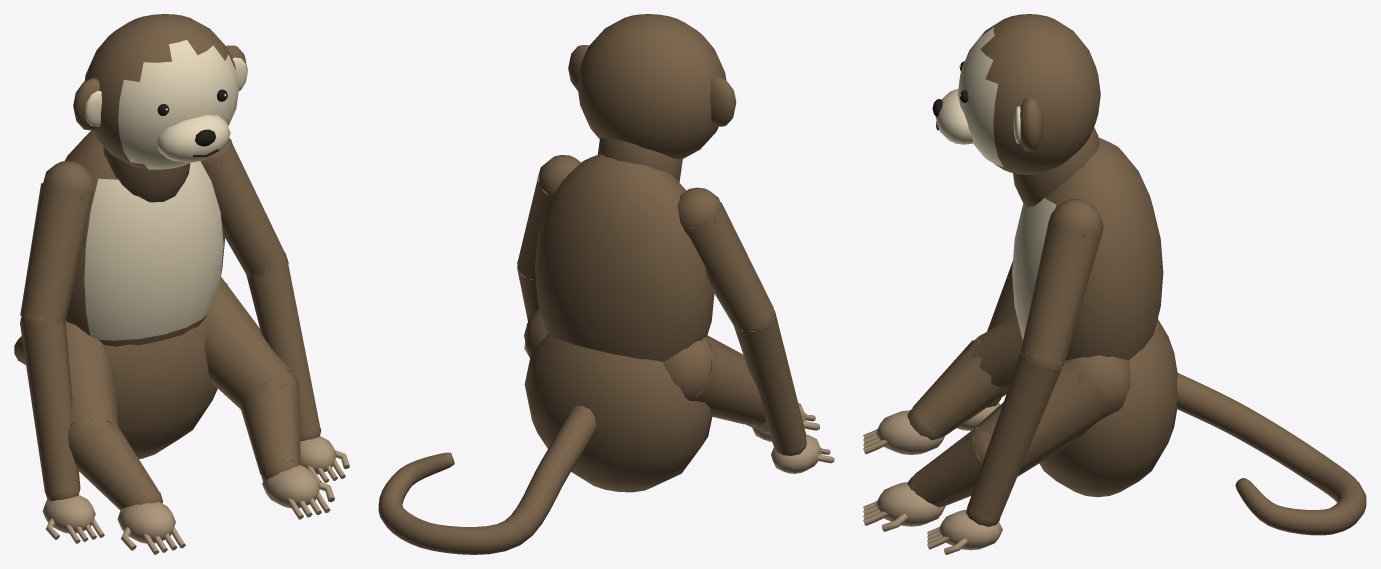
Rendered from monkey_capuchin.glb.
The picture shows the model from 3 angles, left to right: view 1: azimuth 30°, elevation 25°; view 2: azimuth 150°, elevation 25°; view 3: azimuth 270°, elevation 25°; orthographic projection. The views are drawn at different scales.
Parts seen in each view (by area): view 1: Capuchin_Upright_Torso, Capuchin_Head_With_Surface_Face, Capuchin_Seated_Hips, Capuchin_Long_Arm_-1_Segment_1, Capuchin_Long_Arm_-1_Segment_0, Capuchin_Bent_Leg_1_Segment_0, Capuchin_Long_Arm_1_Segment_0, Capuchin_Long_Arm_1_Segment_1, Capuchin_Bent_Leg_-1_Segment_1, Capuchin_Bent_Leg_1_Segment_1, Capuchin_Bent_Leg_-1_Segment_0, Capuchin_Rounded_Muzzle (+10 smaller); view 2: Capuchin_Upright_Torso, Capuchin_Seated_Hips, Capuchin_Head_With_Surface_Face, Capuchin_Curved_Connected_Tail, Capuchin_Long_Arm_-1_Segment_0, Capuchin_Long_Arm_-1_Segment_1, Capuchin_Bent_Leg_-1_Segment_0, Capuchin_Bent_Leg_-1_Rounded_Joint_0, Capuchin_Connected_Neck, Capuchin_Long_Arm_1_Segment_0, Capuchin_Long_Arm_-1_Rounded_Joint_0, Capuchin_Round_Ear_-1 (+4 smaller); view 3: Capuchin_Upright_Torso, Capuchin_Head_With_Surface_Face, Capuchin_Seated_Hips, Capuchin_Curved_Connected_Tail, Capuchin_Long_Arm_1_Segment_0, Capuchin_Long_Arm_1_Segment_1, Capuchin_Bent_Leg_1_Segment_0, Capuchin_Bent_Leg_-1_Segment_1, Capuchin_Bent_Leg_1_Segment_1, Capuchin_Bent_Leg_-1_Segment_0, Capuchin_Connected_Neck, Capuchin_Bent_Leg_1_Rounded_Joint_0 (+7 smaller).
Part boxes in pixels (bbox=[...]): Capuchin_Upright_Torso: bbox=[65, 130, 224, 346]; Capuchin_Head_With_Surface_Face: bbox=[84, 14, 238, 169]; Capuchin_Seated_Hips: bbox=[103, 320, 217, 459]; Capuchin_Long_Arm_-1_Segment_1: bbox=[20, 319, 80, 493]; Capuchin_Long_Arm_-1_Segment_0: bbox=[20, 183, 91, 323]; Capuchin_Bent_Leg_1_Segment_0: bbox=[204, 277, 291, 409]; Capuchin_Long_Arm_1_Segment_0: bbox=[206, 143, 286, 276]; Capuchin_Long_Arm_1_Segment_1: bbox=[246, 260, 320, 435]; Capuchin_Bent_Leg_-1_Segment_1: bbox=[70, 418, 158, 510]; Capuchin_Bent_Leg_1_Segment_1: bbox=[240, 377, 300, 474]; Capuchin_Bent_Leg_-1_Segment_0: bbox=[66, 322, 118, 425]; Capuchin_Rounded_Muzzle: bbox=[156, 115, 230, 162]; Capuchin_Upright_Torso: bbox=[535, 154, 714, 361]; Capuchin_Seated_Hips: bbox=[524, 334, 712, 492]; Capuchin_Head_With_Surface_Face: bbox=[577, 14, 726, 159]; Capuchin_Curved_Connected_Tail: bbox=[378, 406, 596, 554]; Capuchin_Long_Arm_-1_Segment_0: bbox=[684, 202, 773, 330]; Capuchin_Long_Arm_-1_Segment_1: bbox=[733, 309, 806, 452]; Capuchin_Bent_Leg_-1_Segment_0: bbox=[694, 335, 765, 424]; Capuchin_Bent_Leg_-1_Rounded_Joint_0: bbox=[663, 337, 717, 400]; Capuchin_Connected_Neck: bbox=[597, 138, 682, 182]; Capuchin_Long_Arm_1_Segment_0: bbox=[517, 174, 550, 280]; Capuchin_Long_Arm_-1_Rounded_Joint_0: bbox=[677, 187, 722, 234]; Capuchin_Round_Ear_-1: bbox=[710, 76, 736, 126]; Capuchin_Upright_Torso: bbox=[1012, 137, 1163, 360]; Capuchin_Head_With_Surface_Face: bbox=[957, 14, 1100, 174]; Capuchin_Seated_Hips: bbox=[1039, 319, 1177, 497]; Capuchin_Curved_Connected_Tail: bbox=[1176, 373, 1366, 535]; Capuchin_Long_Arm_1_Segment_0: bbox=[1020, 220, 1101, 363]; Capuchin_Long_Arm_1_Segment_1: bbox=[967, 352, 1062, 520]; Capuchin_Bent_Leg_1_Segment_0: bbox=[975, 360, 1114, 476]; Capuchin_Bent_Leg_-1_Segment_1: bbox=[912, 340, 1006, 437]; Capuchin_Bent_Leg_1_Segment_1: bbox=[912, 427, 980, 507]; Capuchin_Bent_Leg_-1_Segment_0: bbox=[974, 315, 1022, 393]; Capuchin_Connected_Neck: bbox=[1013, 127, 1099, 208]; Capuchin_Bent_Leg_1_Rounded_Joint_0: bbox=[1066, 355, 1130, 416].
Bounding box in the file's own units: 0.3483 × 0.51 × 0.4989.
